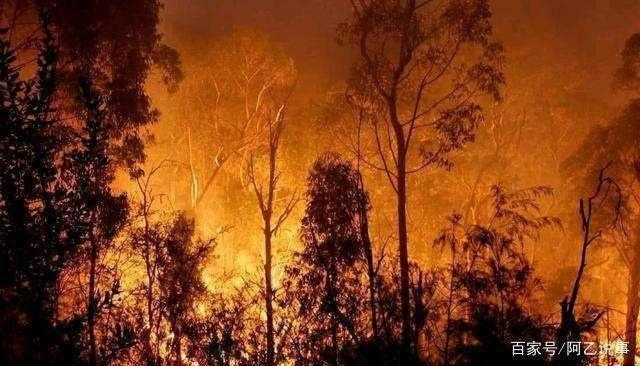fire: (132, 50, 296, 351), (403, 165, 474, 355), (583, 249, 633, 362)
